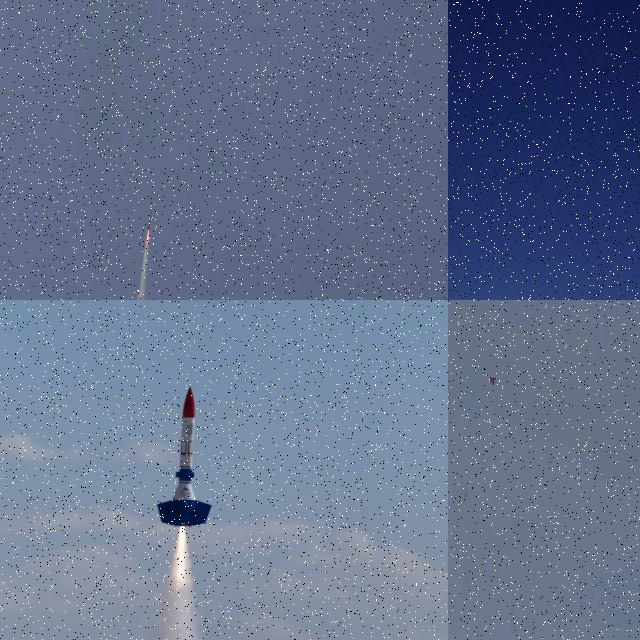Rocket: (157, 386, 213, 528), (148, 203, 153, 231), (464, 490, 468, 498)
